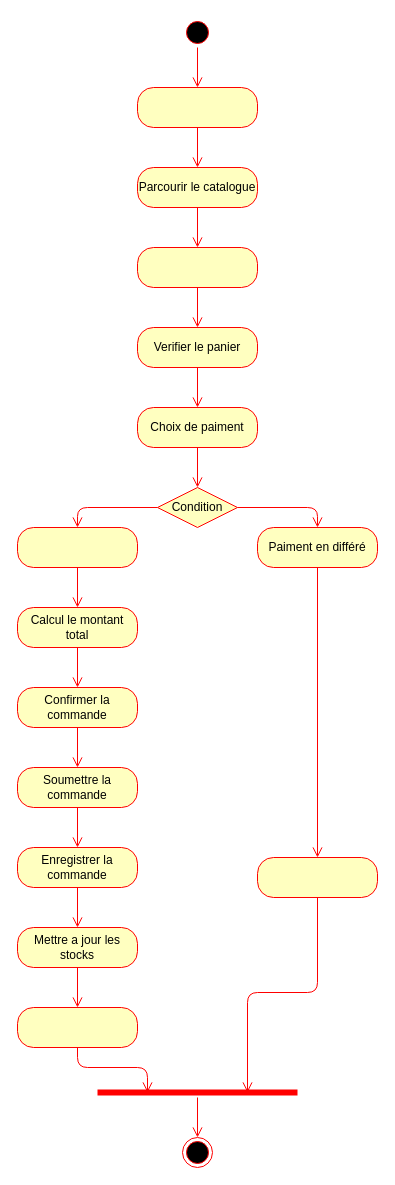
The diagram is 395 pixels wide and 1185 high, and some of its shapes have lost their labels. Here are the shapes that lost their labels. From the top down, the centre of each, then its label:
pixel 197 107: Connection du client
pixel 197 267: Ajouter des produits au panier
pixel 77 547: Paiment en ligne
pixel 317 877: Generer une facture ulterieure
pixel 77 1027: Generer un bon de livraison et facture
